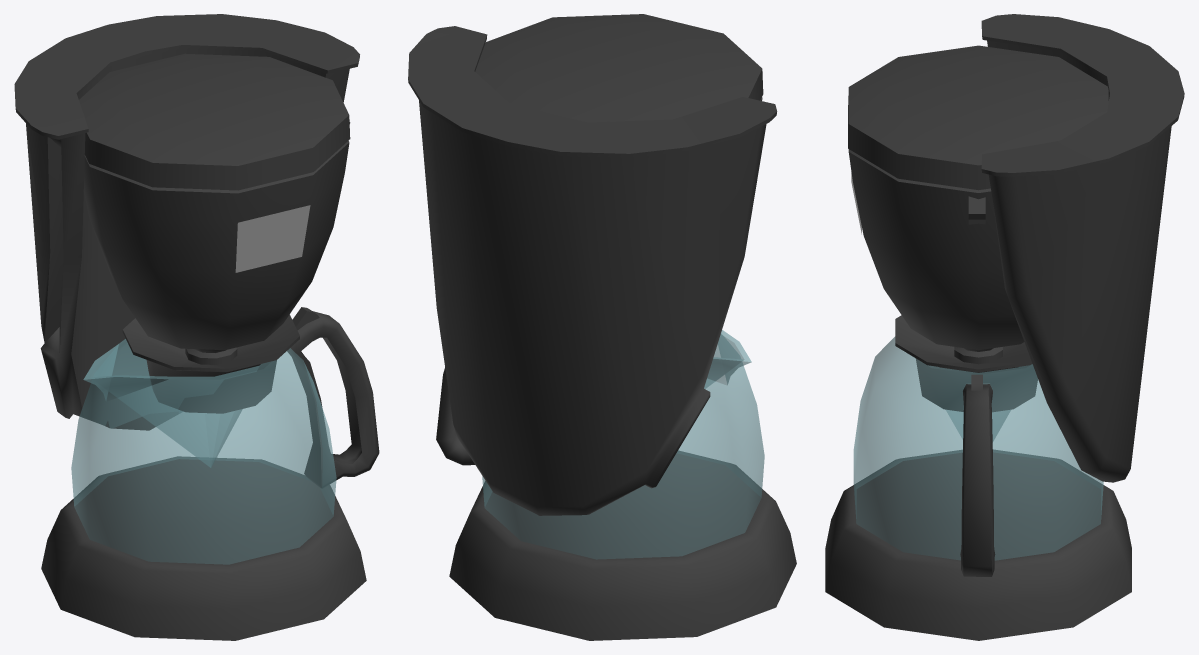
The model's file is FTFCM6000.FBX.
The picture shows the model from 3 angles, left to right: view 1: azimuth 30°, elevation 25°; view 2: azimuth 150°, elevation 25°; view 3: azimuth 270°, elevation 25°; orthographic projection. The views are drawn at different scales.
Parts seen in each view (by area): view 1: FTFCM6000; view 2: FTFCM6000; view 3: FTFCM6000.
Boxes of the visible parts, box(x1,y1,x2,y2) form: FTFCM6000: box(14, 14, 379, 640); FTFCM6000: box(408, 14, 796, 640); FTFCM6000: box(825, 14, 1184, 640).
Bounding box in the file's own units: 20 × 19 × 28.
